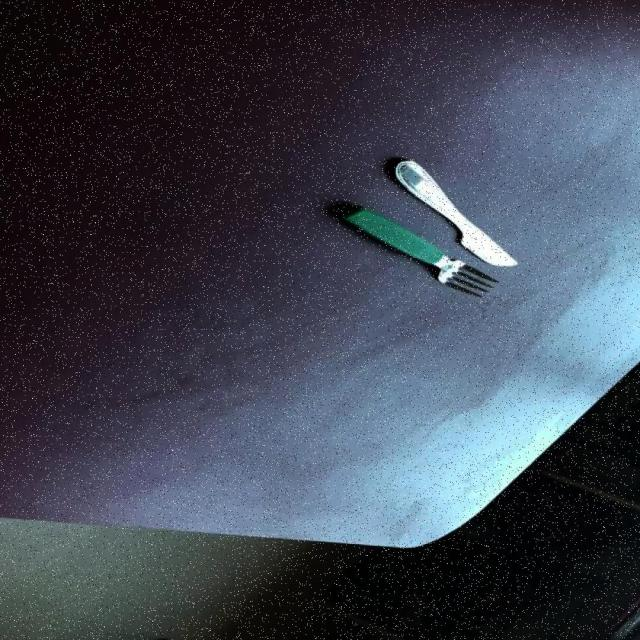Fork: (338, 202, 501, 298)
Knife: (338, 202, 501, 298), (396, 158, 522, 266)
